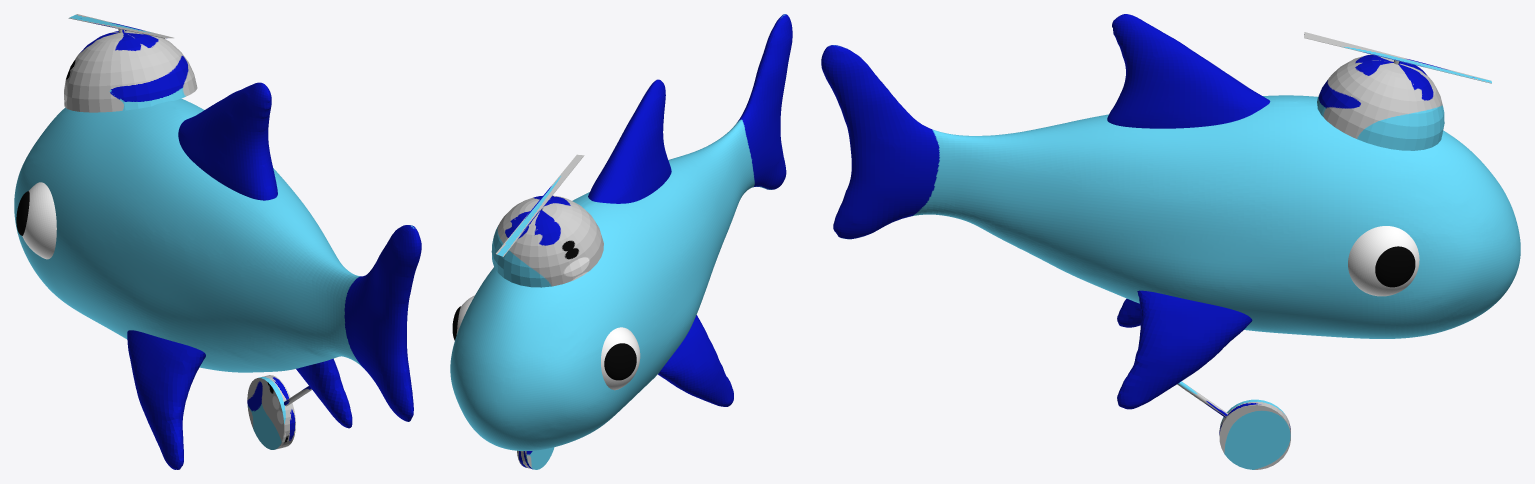
Rendered from WFJ_propellerhat.fbx.
The picture shows the model from 3 angles, left to right: view 1: azimuth 30°, elevation 25°; view 2: azimuth 150°, elevation 25°; view 3: azimuth 270°, elevation 25°; orthographic projection. The views are drawn at different scales.
Visible parts, largest first — view 1: body, eye_L, pupil_L; view 2: body, eye_L, pupil_L; view 3: body, eye_R, pupil_R.
Boxes of the visible parts, box(x1,y1,x2,y2) form: body: box(14, 14, 421, 469); eye_L: box(22, 182, 56, 259); pupil_L: box(16, 191, 29, 235); body: box(450, 14, 792, 469); eye_L: box(601, 327, 640, 390); pupil_L: box(604, 343, 636, 380); body: box(821, 14, 1520, 469); eye_R: box(1348, 226, 1419, 296); pupil_R: box(1375, 246, 1415, 287).
Size of the model in its own units: 158 by 304 by 462.
